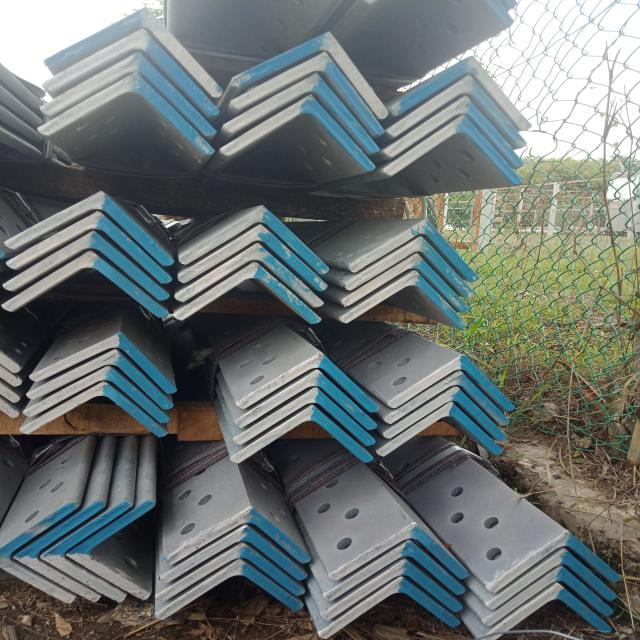metal-angles: (44, 6, 223, 98), (42, 27, 220, 115), (40, 50, 217, 135), (38, 72, 215, 155), (233, 31, 388, 119), (4, 190, 175, 266), (231, 51, 385, 135), (224, 72, 380, 153), (7, 210, 173, 284), (220, 94, 375, 171), (2, 230, 170, 300), (1, 249, 169, 317), (390, 56, 532, 131), (179, 205, 329, 274), (387, 74, 527, 147), (178, 224, 328, 291), (385, 96, 525, 166), (384, 114, 523, 184), (175, 242, 324, 307), (28, 332, 178, 394), (174, 262, 322, 324), (15, 501, 105, 602), (319, 576, 461, 640), (27, 348, 175, 409), (42, 502, 132, 602), (154, 560, 304, 620), (321, 559, 463, 622), (157, 542, 306, 602), (67, 501, 156, 601), (163, 506, 313, 565), (23, 365, 171, 424), (234, 370, 378, 430), (161, 524, 307, 583), (486, 530, 621, 593), (237, 353, 381, 412), (324, 540, 465, 600), (348, 218, 480, 282), (233, 387, 376, 446), (328, 522, 469, 581), (231, 405, 374, 463), (20, 381, 168, 437), (0, 502, 80, 605), (345, 236, 475, 298), (488, 549, 618, 610), (484, 565, 613, 626), (341, 252, 469, 312), (340, 270, 468, 328), (388, 355, 515, 411), (377, 401, 503, 457), (383, 370, 511, 425), (384, 386, 507, 441), (489, 583, 614, 634)
